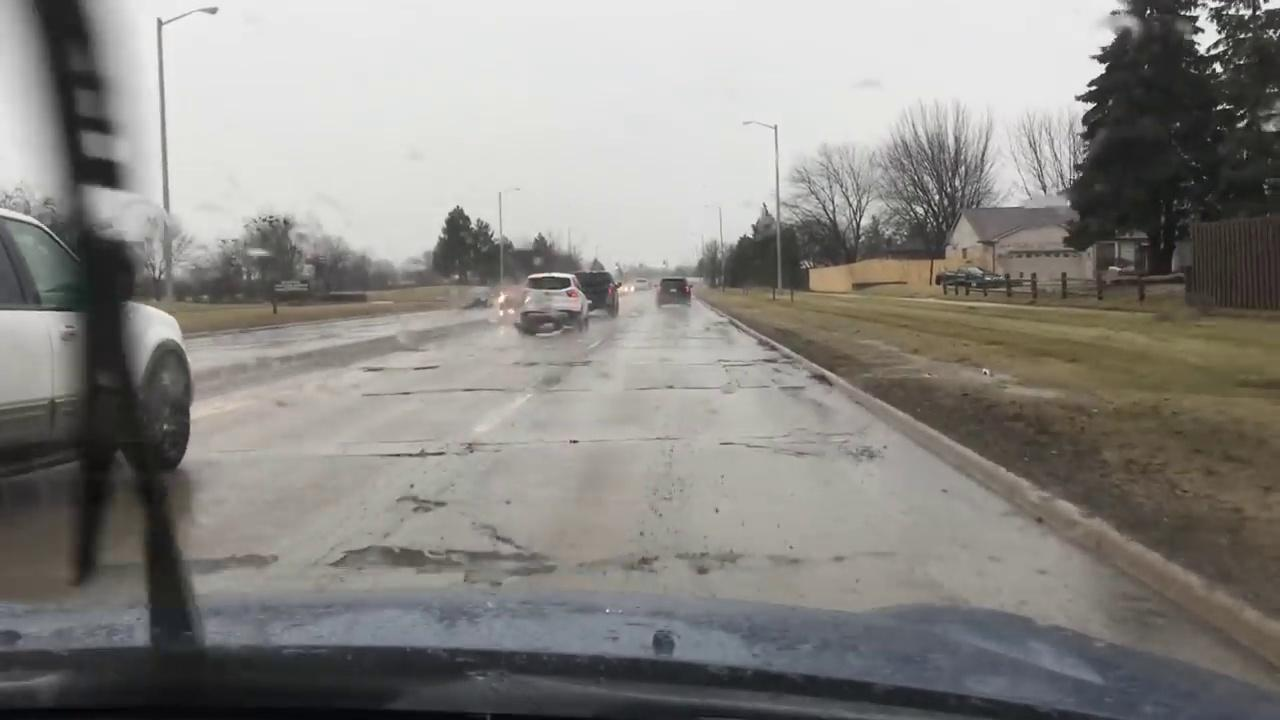pothole: (328, 535, 555, 580), (338, 444, 497, 457), (361, 361, 440, 372), (397, 495, 446, 511)
